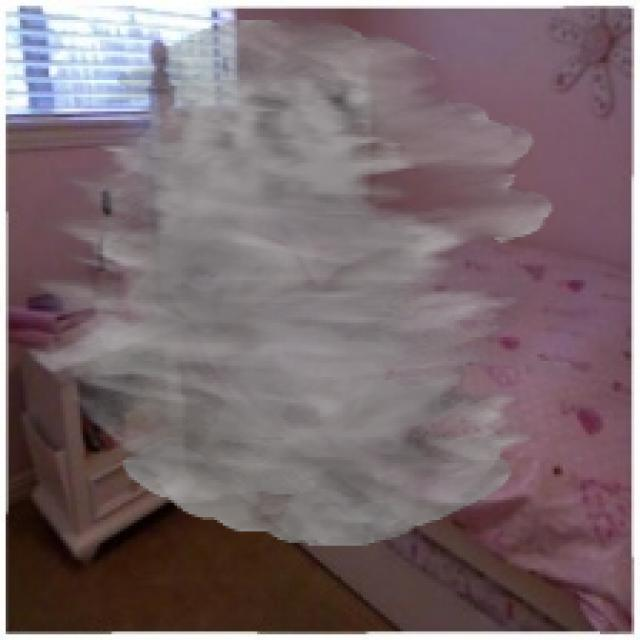Smoke: (26, 17, 554, 546)
